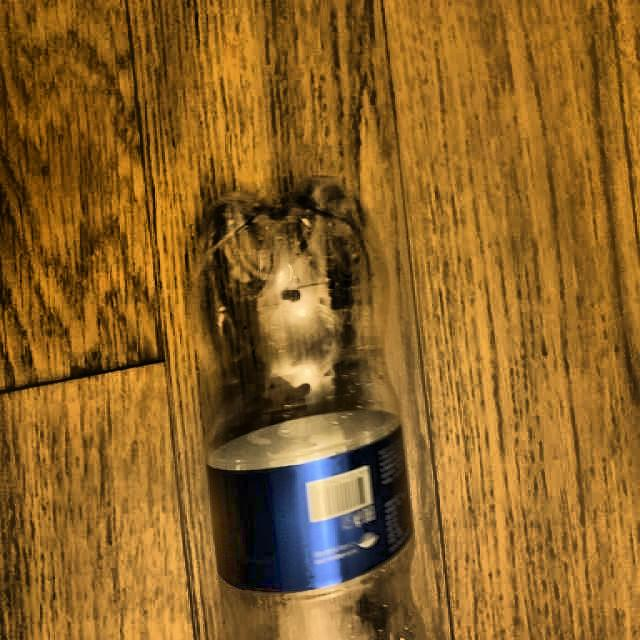plastic bottle: (197, 180, 414, 640)
